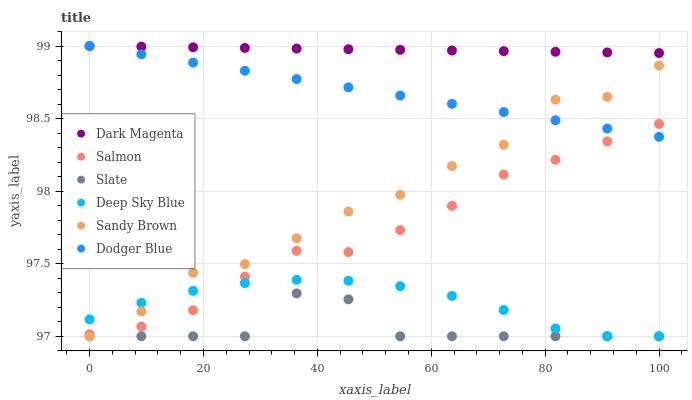axis: (66, 346, 685, 357), (54, 31, 66, 345)
legend: (62, 113, 195, 269)
point: (602, 88, 615, 102), (444, 95, 457, 108), (393, 329, 407, 341), (344, 247, 358, 259), (653, 61, 667, 72), (599, 44, 611, 56), (499, 104, 511, 116), (548, 321, 561, 332), (499, 167, 510, 180), (341, 43, 354, 54), (237, 333, 252, 342), (499, 304, 510, 316), (239, 43, 251, 54), (188, 305, 199, 317), (396, 282, 406, 295), (188, 57, 201, 67), (342, 206, 353, 217), (652, 47, 663, 58), (188, 285, 199, 296), (446, 331, 458, 341), (495, 48, 507, 58), (291, 73, 303, 83), (189, 329, 199, 341), (289, 232, 302, 241), (189, 268, 199, 279), (550, 154, 562, 163), (601, 333, 614, 341), (394, 227, 407, 235), (551, 48, 561, 58), (136, 297, 146, 307), (448, 292, 457, 303), (137, 306, 148, 315), (291, 291, 302, 300), (239, 258, 251, 266), (551, 332, 560, 342), (292, 276, 303, 284), (137, 331, 146, 340), (84, 315, 94, 323), (138, 321, 148, 329), (603, 125, 614, 132), (653, 333, 659, 345), (241, 278, 249, 287), (85, 42, 94, 50), (448, 162, 458, 169), (136, 42, 146, 49), (137, 51, 147, 58), (342, 296, 353, 302), (656, 121, 664, 129), (656, 134, 665, 141)
